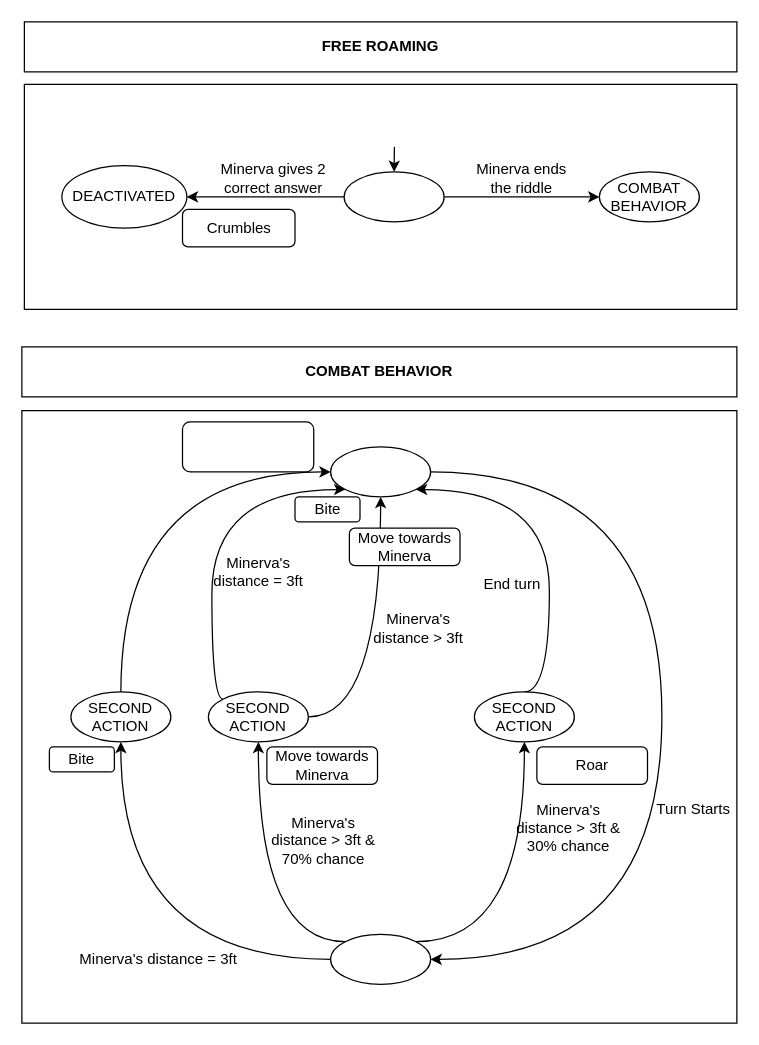
This 759x1045 diagram has some shape labels left out. The shapes that lost their labels are listed below. From the top down, each one's centre as x and y in pixels, then its label:
the point at 393,196: INACTIVE
the point at 247,446: Retreat 3ft away from Minerva
the point at 380,471: WAIT TURN
the point at 380,958: FIRST ACTION
